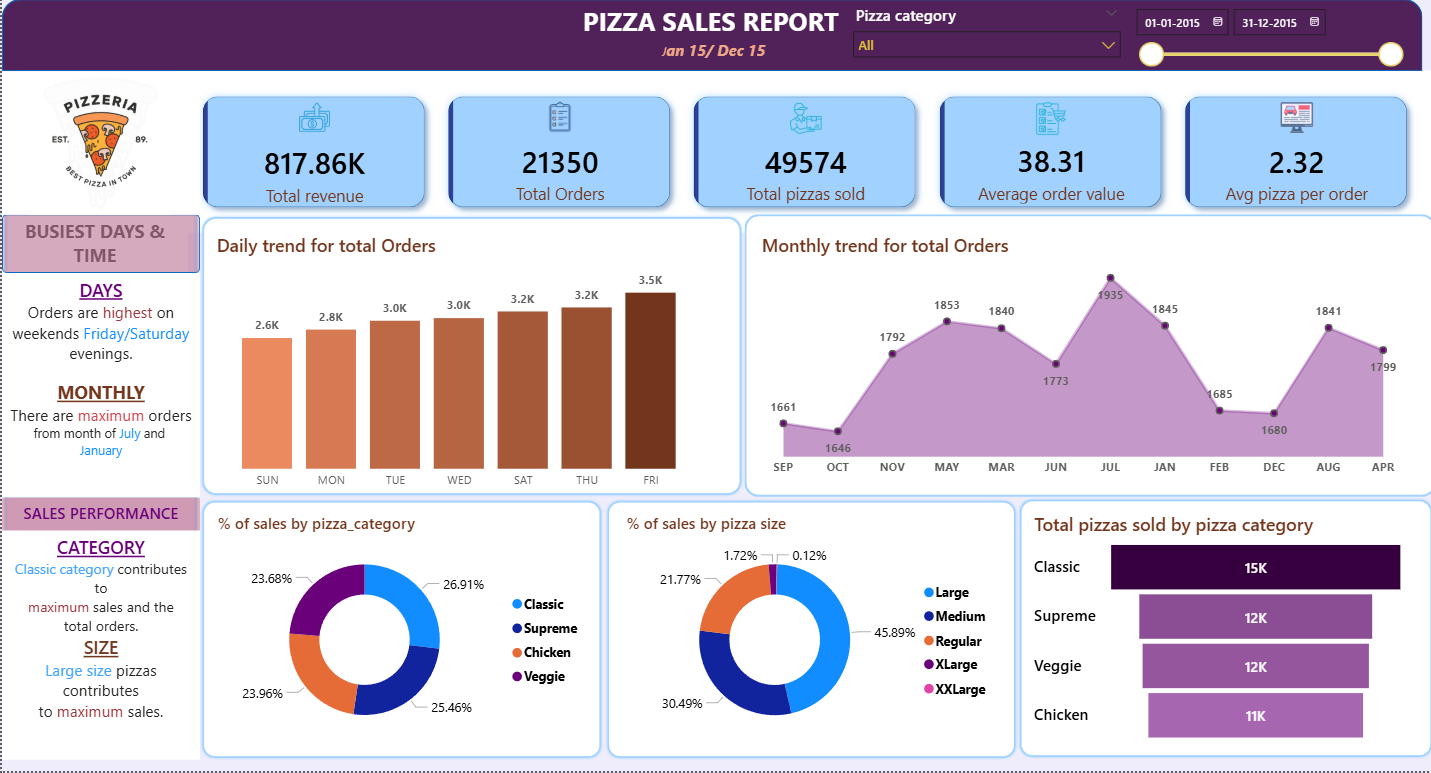

The page's visual inventory and layout, read from the dashboard file:
{"tool":"powerbi","page":{"name":"Page 1","canvas":[1500,820],"ordinal":0},"visuals":[{"type":"textbox","box":[0,237.1,194.3,61.4],"z":0},{"type":"cardVisual","fields":{"Data":["public pizza_sales.Total revenue","public pizza_sales.Total Orders","public pizza_sales.Total pizzas sold","public pizza_sales.Average order value","public pizza_sales.Avg pizza per order"]},"box":[183.3,86.7,1316.7,170],"z":1000},{"type":"shape","box":[0,11.7,1486.7,75],"z":2000},{"type":"textbox","box":[603.3,11.7,303.3,46.7],"z":3000},{"type":"textbox","box":[685,48.3,140,38.3],"z":4000},{"type":"shape","box":[0,110,207.1,698.6],"z":5000},{"type":"shape","box":[206.7,236.7,570,296.7],"z":6000},{"type":"columnChart","title":"Daily trend for total Orders","fields":{"Category":["public pizza_sales.Order day"],"Y":["public pizza_sales.Total Orders"]},"box":[220,256.7,518.3,276.7],"z":7000},{"type":"shape","box":[776.7,237.1,723.6,295.7],"z":8000},{"type":"areaChart","title":"Monthly trend for total Orders ","fields":{"Category":["public pizza_sales.Order Month"],"Y":["public pizza_sales.Total Orders"]},"box":[790,256.7,683.3,263.3],"z":9000},{"type":"shape","box":[206.7,533.3,423.3,275],"z":10000},{"type":"shape","box":[630,533.3,433.3,275],"z":11000},{"type":"shape","box":[1062.9,532.8,437.4,275.3],"z":12000},{"type":"donutChart","title":"% of sales by pizza_category","fields":{"Y":["public pizza_sales.Total revenue"],"Category":["public pizza_sales.pizza_category"]},"box":[221.7,548.3,395,246.7],"z":13000},{"type":"donutChart","title":"% of sales by pizza size","fields":{"Y":["public pizza_sales.Total revenue"],"Category":["public pizza_sales.pizza_size"]},"box":[648.3,548.3,395,246.7],"z":14000},{"type":"funnel","title":"Total pizzas sold by pizza category","fields":{"Category":["public pizza_sales.pizza_category"],"Y":["public pizza_sales.Total pizzas sold"]},"box":[1075,548.3,398.3,246.7],"z":15000},{"type":"shape","box":[0,237.1,207.1,61.4],"z":16000},{"type":"textbox","box":[0,298.4,207.1,234.4],"z":17000},{"type":"textbox","box":[0,534.3,207.1,34.3],"z":18000},{"type":"textbox","box":[0,568.2,207.1,239.8],"z":19000},{"type":"slicer","fields":{"Values":["public pizza_sales.pizza_category"]},"box":[880,11.4,300,75.7],"z":20000},{"type":"slicer","fields":{"Values":["public pizza_sales.order_date"]},"box":[1174.3,11.4,300,75.7],"z":21000},{"type":"image","box":[0,87.2,207.1,149.9],"z":22000}]}

Visuals, with their boxes in screenshot pixels (x1, y1, x2, y2), scaled from the page's 1500x820 canvas onto the 1431x773 screenshot:
textbox: pyautogui.locateOnScreen(0, 224, 185, 281)
cardVisual - public pizza_sales.Total revenue x public pizza_sales.Total Orders: pyautogui.locateOnScreen(175, 82, 1430, 242)
shape: pyautogui.locateOnScreen(0, 11, 1418, 82)
textbox: pyautogui.locateOnScreen(576, 11, 865, 55)
textbox: pyautogui.locateOnScreen(653, 46, 787, 82)
shape: pyautogui.locateOnScreen(0, 104, 198, 762)
shape: pyautogui.locateOnScreen(197, 223, 741, 503)
"Daily trend for total Orders" columnChart: pyautogui.locateOnScreen(210, 242, 704, 503)
shape: pyautogui.locateOnScreen(741, 224, 1430, 502)
"Monthly trend for total Orders " areaChart: pyautogui.locateOnScreen(754, 242, 1406, 490)
shape: pyautogui.locateOnScreen(197, 503, 601, 762)
shape: pyautogui.locateOnScreen(601, 503, 1014, 762)
shape: pyautogui.locateOnScreen(1014, 502, 1430, 762)
"% of sales by pizza_category" donutChart: pyautogui.locateOnScreen(212, 517, 588, 749)
"% of sales by pizza size" donutChart: pyautogui.locateOnScreen(618, 517, 995, 749)
"Total pizzas sold by pizza category" funnel: pyautogui.locateOnScreen(1026, 517, 1406, 749)
shape: pyautogui.locateOnScreen(0, 224, 198, 281)
textbox: pyautogui.locateOnScreen(0, 281, 198, 502)
textbox: pyautogui.locateOnScreen(0, 504, 198, 536)
textbox: pyautogui.locateOnScreen(0, 536, 198, 762)
slicer - public pizza_sales.pizza_category: pyautogui.locateOnScreen(840, 11, 1126, 82)
slicer - public pizza_sales.order_date: pyautogui.locateOnScreen(1120, 11, 1406, 82)
image: pyautogui.locateOnScreen(0, 82, 198, 224)
